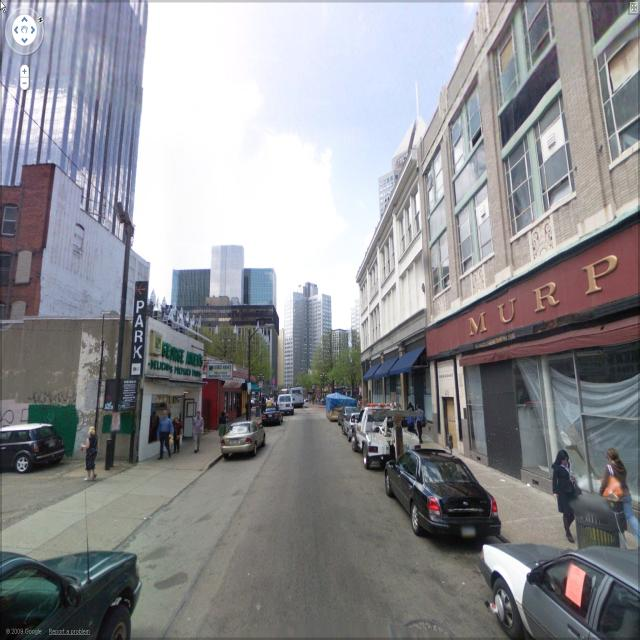b_1: (431, 13, 639, 435), (1, 310, 219, 488), (2, 6, 146, 228), (7, 175, 161, 331), (361, 160, 423, 382), (173, 265, 277, 306), (372, 137, 424, 215), (210, 248, 247, 311)
b_2: (192, 308, 274, 405), (296, 261, 338, 409), (326, 317, 364, 400), (271, 324, 301, 410)
